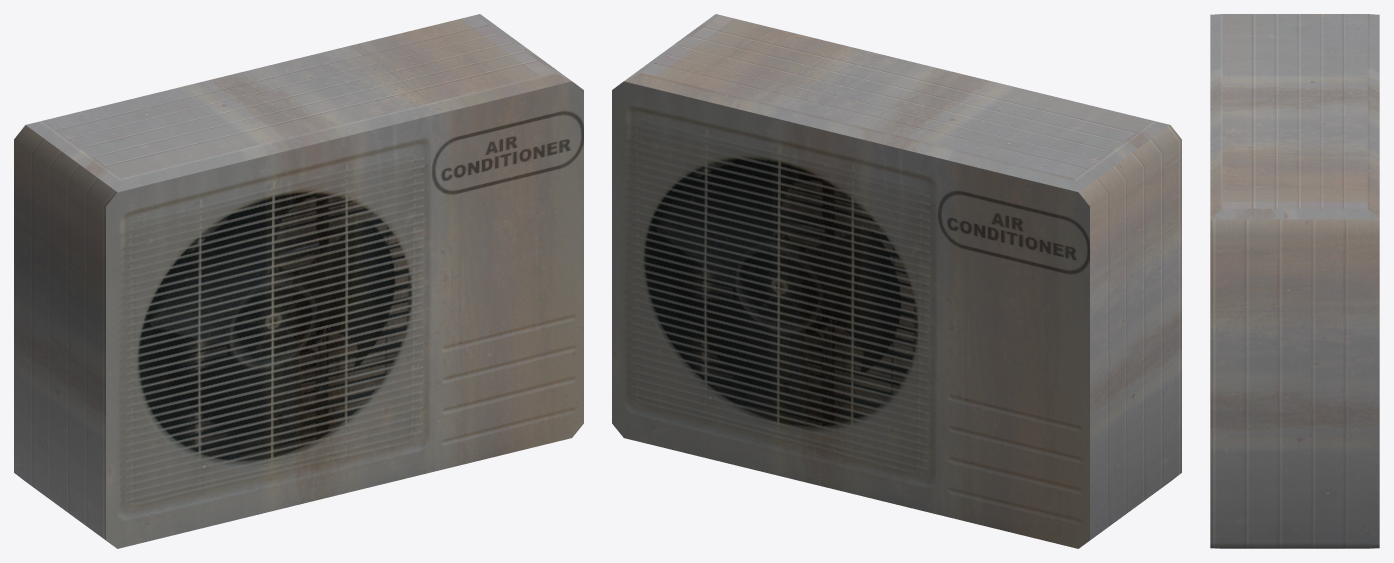
Rendered from AirCon001.fbx.
3 views of the same model, side by side, from view 1: azimuth 30°, elevation 25°; view 2: azimuth 150°, elevation 25°; view 3: azimuth 270°, elevation 25° (orthographic). The views are drawn at different scales.
Visible parts, largest first — view 1: Air01; view 2: Air01; view 3: Air01.
Boxes of the visible parts, x1,y1,x2,y2 form: Air01: (14,14,583,548); Air01: (612,14,1181,548); Air01: (1210,14,1379,548).
Bounding box in the file's own units: 147 × 108 × 48.9.
